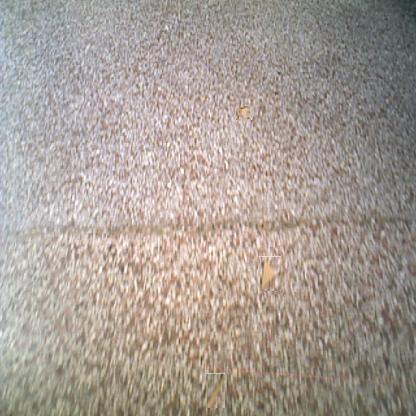dirty: (259, 256, 281, 291), (205, 373, 225, 408), (237, 108, 251, 122)
